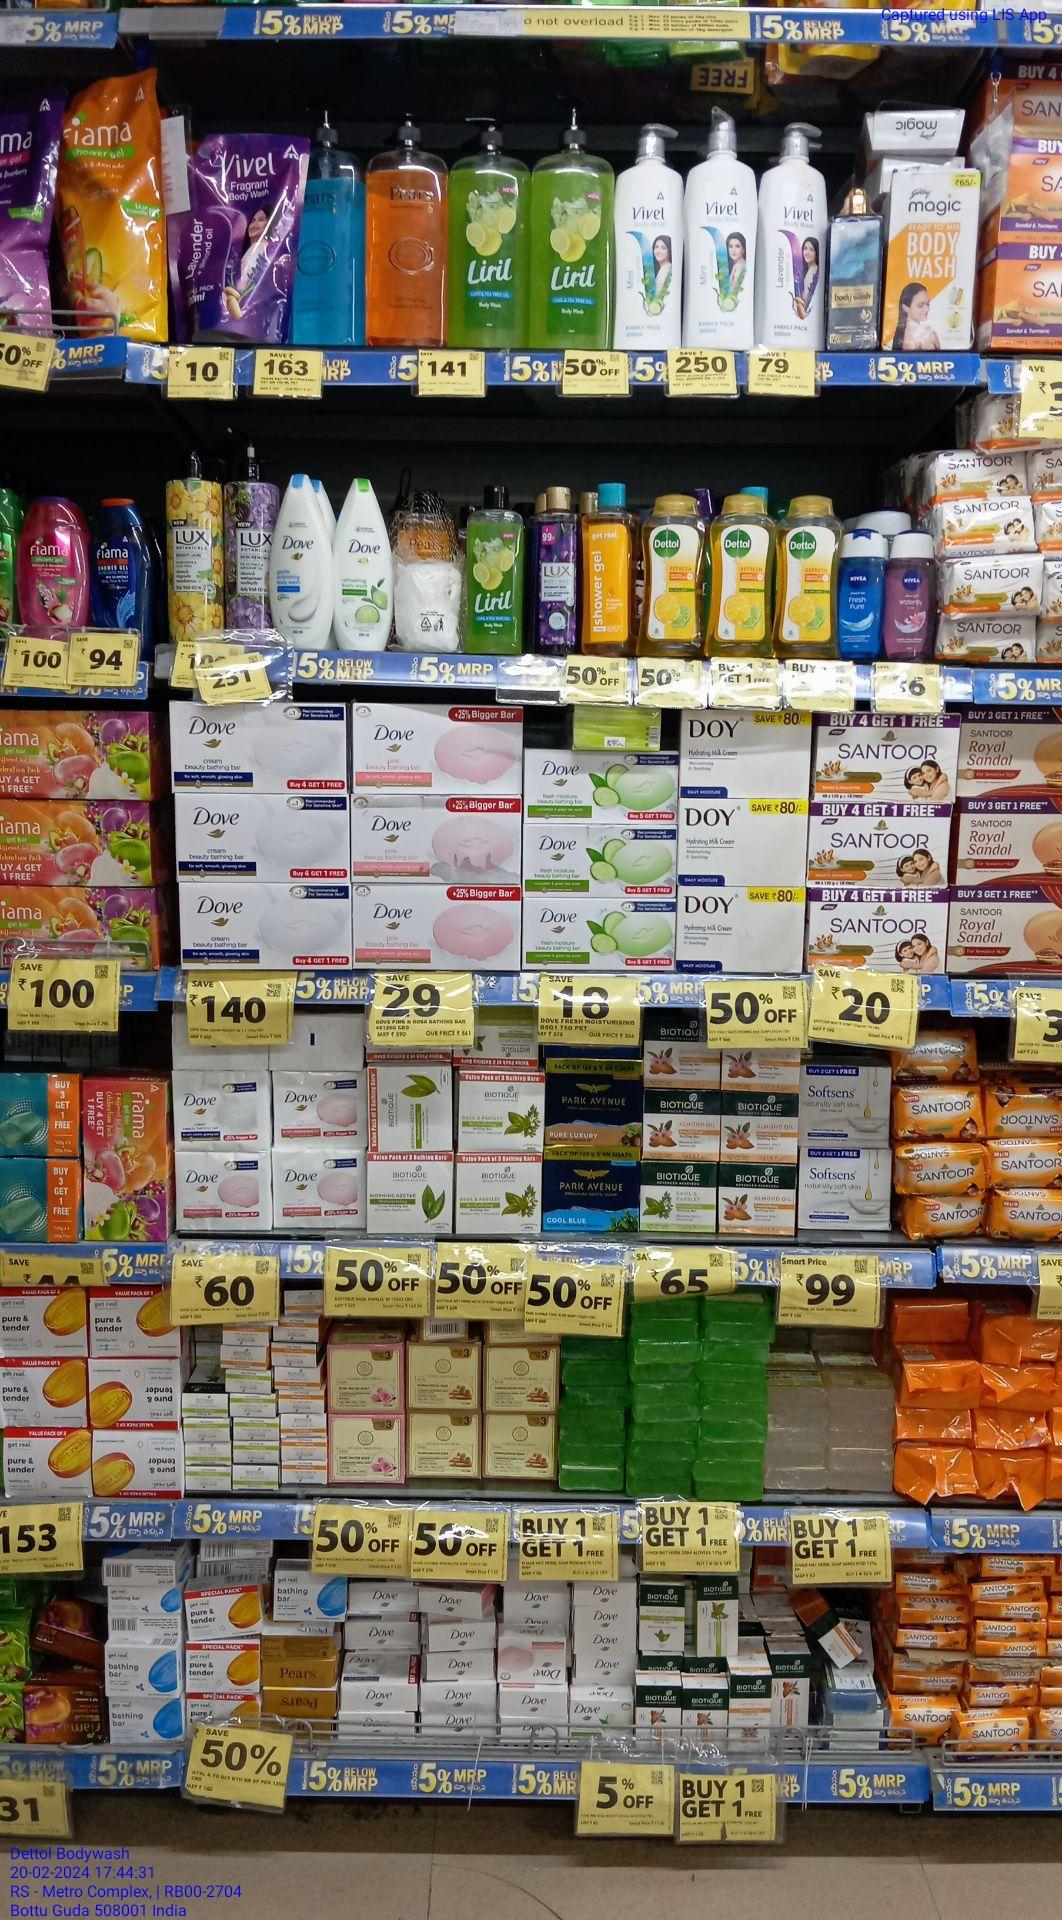Dettol_Bodywash_Refresh: (777, 492, 842, 657), (710, 494, 774, 657), (640, 494, 704, 654)
Dove_Gentle_Exfoliating_Body_Wash_250ML: (271, 475, 331, 647)
Dove_Refreshing_Body_Wash_250ML: (335, 477, 394, 651)
Liril_Lime_and_Tea_Tree_Oil_Body_Wash_250ML: (464, 480, 524, 654)
Lux_Black_Orchid_Scent_and_Juniper_Oil_Body_Wash_245ML: (531, 483, 577, 654)
Nivea_Shower_Gel_Waterlily_and_Oil_250ML: (887, 534, 936, 662)
